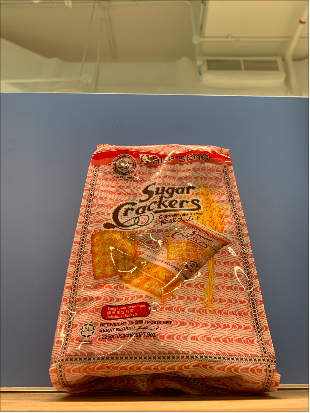Crackers_200-299g: (81, 154, 251, 356)
